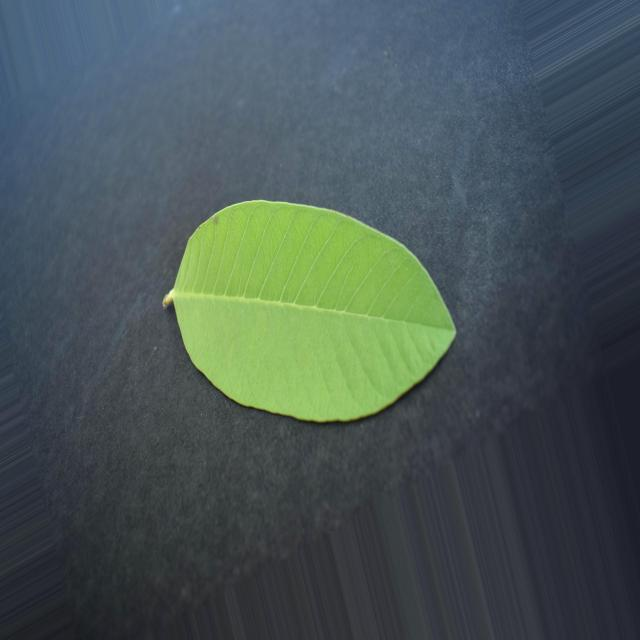Healthy: (164, 201, 455, 422)
